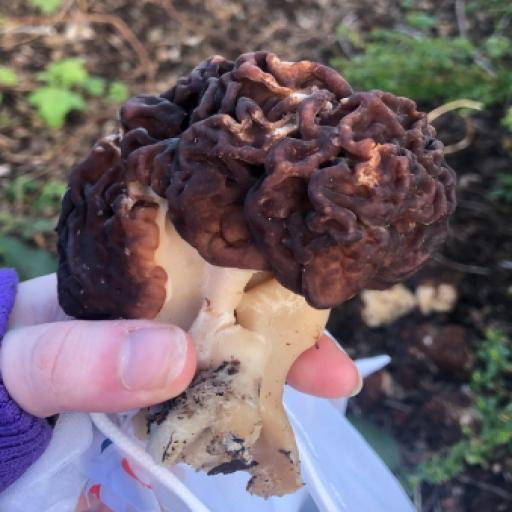mushroom: (0, 0, 497, 512)
